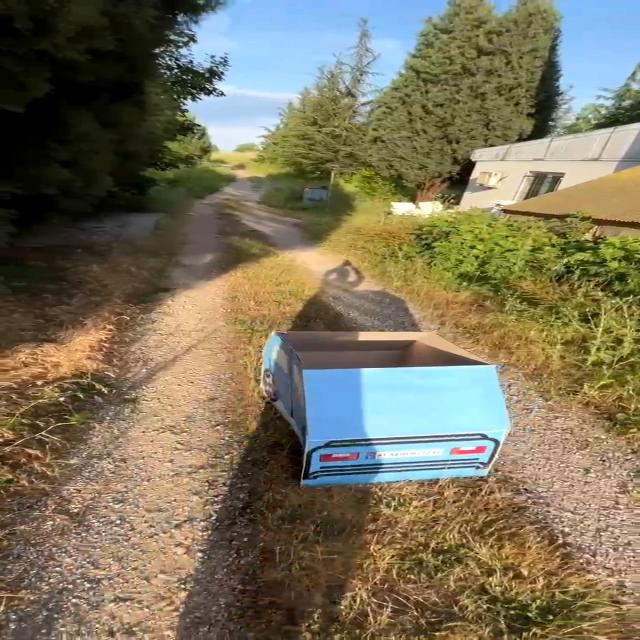blue_car: (191, 295, 560, 500)
